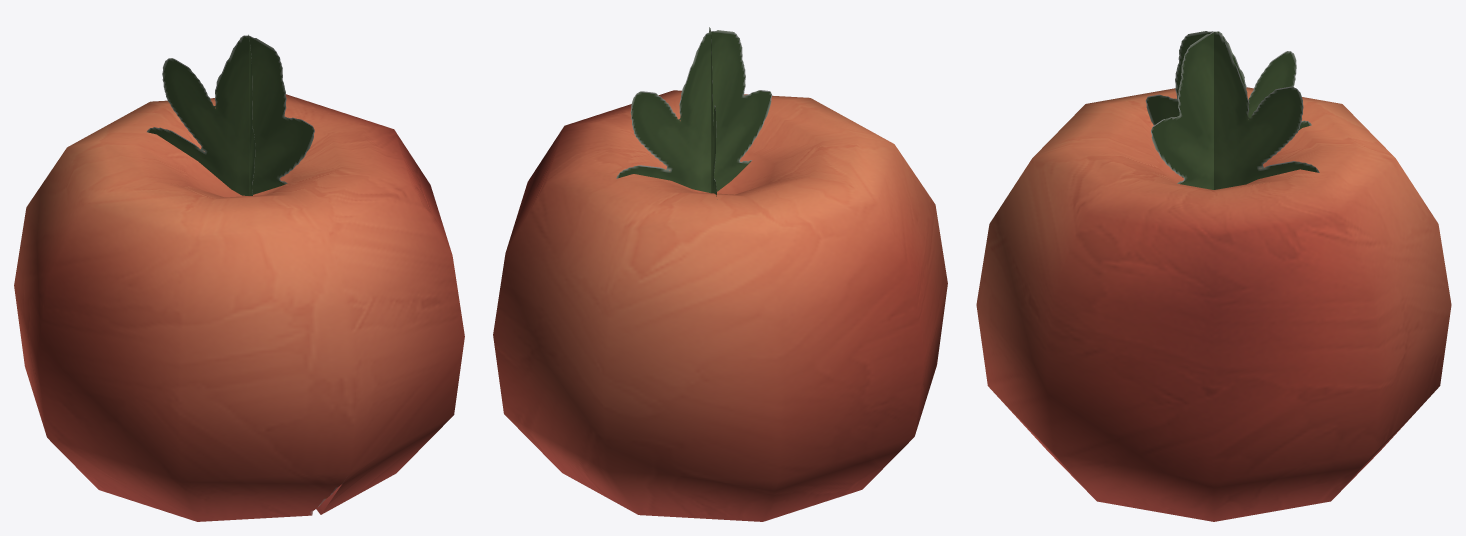
File: SM_Tomato.fbx
3 renders of one model, left to right at view 1: azimuth 30°, elevation 25°; view 2: azimuth 150°, elevation 25°; view 3: azimuth 270°, elevation 25°, orthographic.
Visible parts, largest first — view 1: Cylinder.001; view 2: Cylinder.001; view 3: Cylinder.001.
Boxes of the visible parts, x1,y1,x2,y2 form: Cylinder.001: (14,34,464,521); Cylinder.001: (493,27,947,521); Cylinder.001: (976,31,1451,521).
Size of the model in its own units: 37.75 by 38.81 by 37.75.
